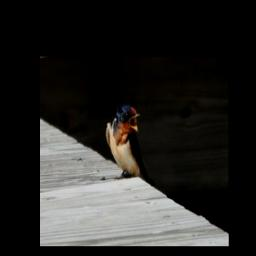Swallow: (105, 102, 147, 179)
